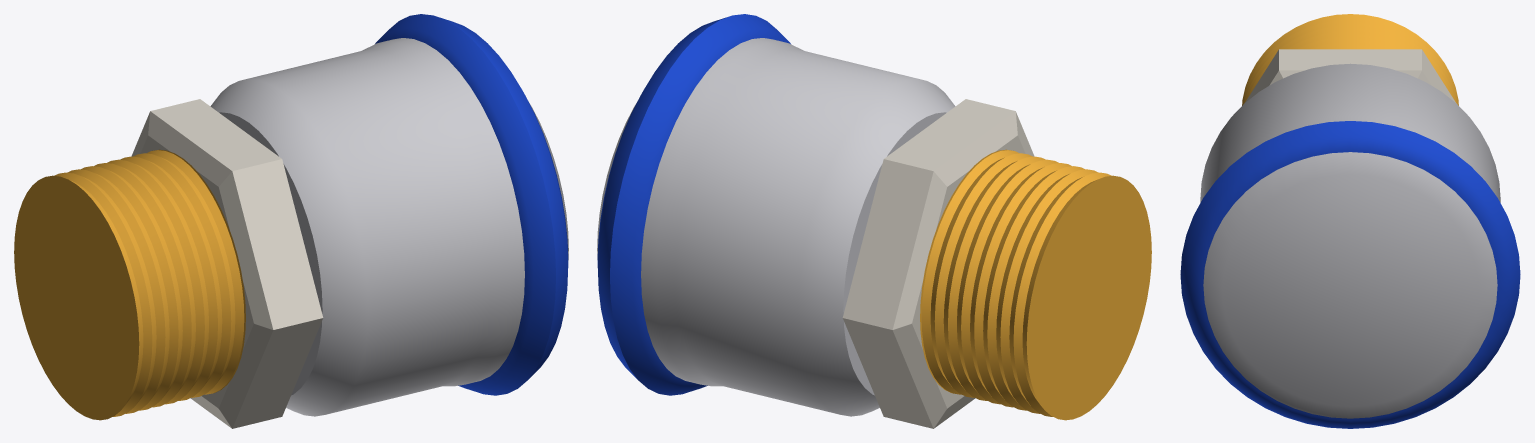
Rendered from fitting_adp_28x34_M.glb.
3 renders of one model, left to right at view 1: azimuth 30°, elevation 25°; view 2: azimuth 150°, elevation 25°; view 3: azimuth 270°, elevation 25°, orthographic. The views are drawn at different scales.
Visible parts, largest first — view 1: раструб, резьба НР, шестигранник переходника, кольцо пресс; view 2: раструб, резьба НР, шестигранник переходника, кольцо пресс; view 3: раструб, кольцо пресс, резьба НР, шестигранник переходника.
Part boxes in pixels (x1,y1,x2,y2): раструб: (210, 38, 568, 416); резьба НР: (14, 149, 245, 420); шестигранник переходника: (131, 99, 323, 428); кольцо пресс: (375, 14, 568, 395); раструб: (597, 38, 955, 416); резьба НР: (920, 149, 1151, 420); шестигранник переходника: (842, 99, 1034, 428); кольцо пресс: (597, 14, 790, 395); раструб: (1200, 63, 1500, 418); кольцо пресс: (1180, 121, 1520, 428); резьба НР: (1242, 14, 1458, 105); шестигранник переходника: (1244, 49, 1456, 103).
Bounding box in the file's own units: 0.051 × 0.0412 × 0.0412.
